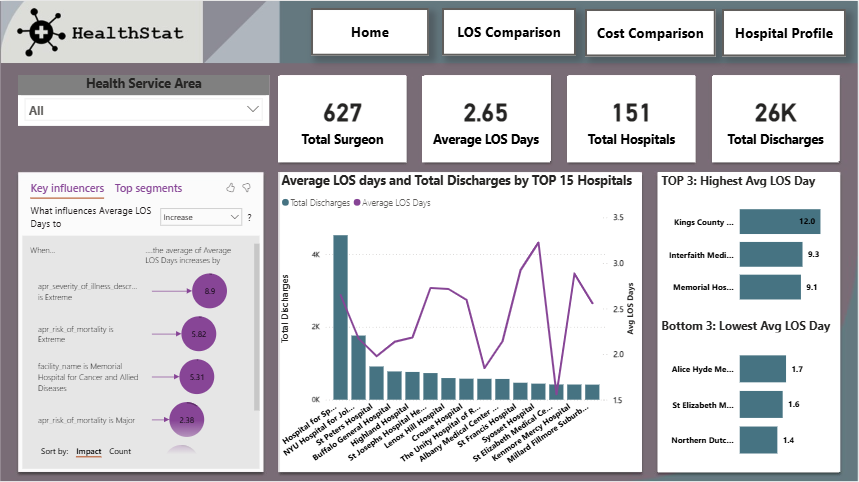

The dashboard page shown, as its layout file describes it:
{"tool":"powerbi","page":{"name":"LOC Comparison","canvas":[1280,720],"ordinal":1},"visuals":[{"type":"card","fields":{"Values":["_Measures.Total Hospitals"]},"box":[845.8,111.3,192.3,128.7],"z":0},{"type":"card","fields":{"Values":["_Measures.Total Surgeon"]},"box":[414.9,111.3,192.3,128.7],"z":1000},{"type":"card","fields":{"Values":["_Measures.Average LOS Days"]},"box":[630.4,111.3,190.8,128.7],"z":2000},{"type":"card","fields":{"Values":["_Measures.Total Discharges"]},"box":[1062.7,111.3,189.4,128.7],"z":3000},{"type":"clusteredBarChart","title":"TOP 3: Highest Avg LOS Day","fields":{"Category":["hip_replacement_discharges.facility_name"],"Y":["_Measures.Average LOS Days"]},"box":[981.7,255.9,270.4,216.9],"z":4000},{"type":"clusteredBarChart","title":"Bottom 3: Lowest Avg LOS Day","fields":{"Category":["hip_replacement_discharges.facility_name"],"Y":["_Measures.Average LOS Days"]},"box":[982.2,472.2,270,232.2],"z":5000},{"type":"lineStackedColumnComboChart","title":"Average LOS days and Total Discharges by TOP 15 Hospitals","fields":{"Y":["_Measures.Total Discharges"],"Y2":["_Measures.Average LOS Days"],"Category":["hip_replacement_discharges.facility_name"]},"box":[414.9,255.9,540.7,448.2],"z":6000},{"type":"slicer","title":"Health Service Area","fields":{"Values":["hip_replacement_discharges.health_service_area"]},"box":[27.3,111.1,375.1,76.5],"z":7000},{"type":"keyDriversVisual","fields":{"Target":["_Measures.Average LOS Days"],"ExplainBy":["hip_replacement_discharges.patient_disposition","hip_replacement_discharges.apr_risk_of_mortality","hip_replacement_discharges.apr_severity_of_illness_description","hip_replacement_discharges.ccs_diagnosis_description","hip_replacement_discharges.apr_drg_description","hip_replacement_discharges.apr_mdc_description","hip_replacement_discharges.facility_name","_Measures.Total Discharges","_Measures.Total Hospitals","_Measures.Total Surgeon"]},"box":[27.8,255.6,364.4,447.8],"z":8000},{"type":"actionButton","box":[660,10,200,71.2],"z":9000},{"type":"actionButton","box":[872.7,11.2,195.2,70.8],"z":10000},{"type":"actionButton","box":[1078,11.2,185.1,70.8],"z":11000},{"type":"actionButton","title":"Home","box":[463.8,10,176.2,71.2],"z":12000}]}

Visuals, with their boxes in screenshot pixels (x1, y1, x2, y2), scaled from the page's 1280x720 canvas onto the 859x482 screenshot:
card - _Measures.Total Hospitals: crop(568, 75, 697, 161)
card - _Measures.Total Surgeon: crop(278, 75, 407, 161)
card - _Measures.Average LOS Days: crop(423, 75, 551, 161)
card - _Measures.Total Discharges: crop(713, 75, 840, 161)
"TOP 3: Highest Avg LOS Day" clusteredBarChart: crop(659, 171, 840, 317)
"Bottom 3: Lowest Avg LOS Day" clusteredBarChart: crop(659, 316, 840, 472)
"Average LOS days and Total Discharges by TOP 15 Hospitals" lineStackedColumnComboChart: crop(278, 171, 641, 471)
"Health Service Area" slicer: crop(18, 74, 270, 126)
keyDriversVisual - _Measures.Average LOS Days x hip_replacement_discharges.patient_disposition: crop(19, 171, 263, 471)
actionButton: crop(443, 7, 577, 54)
actionButton: crop(586, 7, 717, 55)
actionButton: crop(723, 7, 848, 55)
"Home" actionButton: crop(311, 7, 430, 54)
